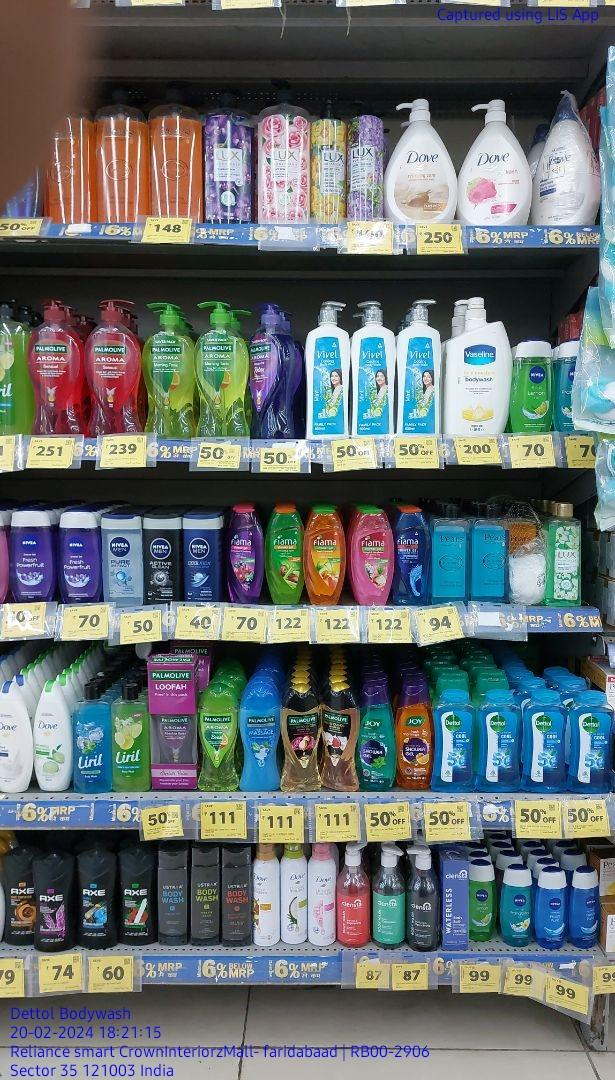Dettol_Bodywash_Cool: (477, 687, 522, 792), (570, 689, 612, 793), (434, 687, 475, 793), (525, 688, 565, 791)
Dove_Deep_Moisture_Body_Wash_250ML: (0, 680, 33, 795)
Dove_Refreshing_Body_Wash_250ML: (35, 677, 70, 793)
Fiama_Shower_Gel_Lemongrass_and_Jojoba_250ML: (265, 503, 303, 605)
Fiama_Shower_Gel_Patchouli_and_Macadamia_250ML: (349, 508, 393, 606)
Fiama_Shower_Gel_Peach_and_Avocado_250ML: (306, 506, 343, 607)
Joy_Shower_Gel_Mandarin_and_Lemongrass_250ML: (396, 684, 431, 788)
Joy_Shower_Gel_Mint_and_Eucalyptus_250ML: (362, 683, 395, 788)
Liril_Cooling_Mint_Body_Wash_250ML: (73, 681, 112, 794)
Liril_Lime_and_Tea_Tree_Oil_Body_Wash_250ML: (114, 681, 151, 793)
Lux_Body_Wash_Skin_Detox_Freesia_Scent_and_Alove_Vera_245ML: (546, 501, 583, 606)
Nivea_Shower_Gel_Frangipani_and_Oil_250ML: (500, 864, 532, 947)
Nivea_Shower_Gel_Lemon_and_Oil_250ML: (513, 336, 556, 432), (469, 858, 498, 943)
Palmolive_Aroma_Moments_Feel_The_Massage_Shower_Gel_250ML: (241, 679, 282, 791)
Palmolive_Aroma_Morning_Tonic_Shower_Gel_250ML: (199, 680, 241, 791)
Palmolive_Luminous_Oils_Invigorating_Macadamia_Oil_With_Peony_250ML: (282, 684, 325, 793)
Palmolive_Luminous_Oils_With_White_Orchid_Shower_Gel_250ML: (326, 683, 360, 790)
Pears_Pure_Glycerin_and_Mint_Extracts_Body_Wash_250ML: (469, 501, 509, 602), (429, 504, 467, 604)
